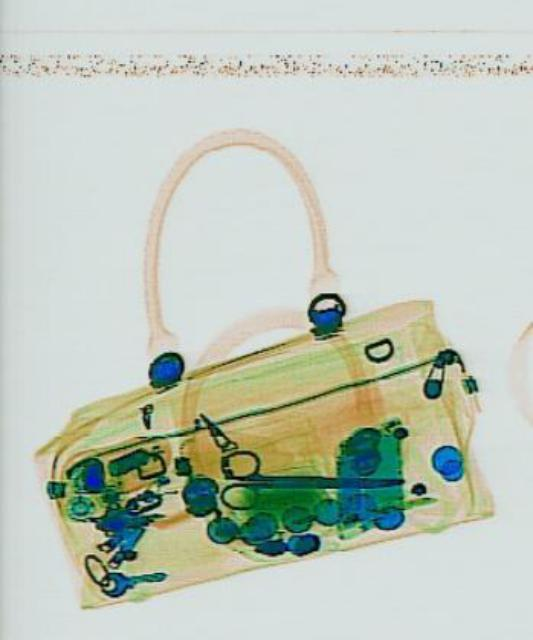Scissors: (218, 448, 401, 509)
